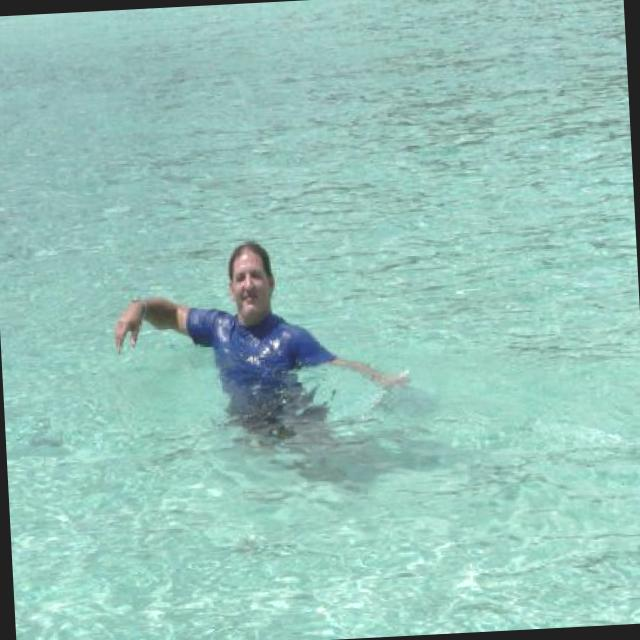Person: (110, 232, 404, 454)
